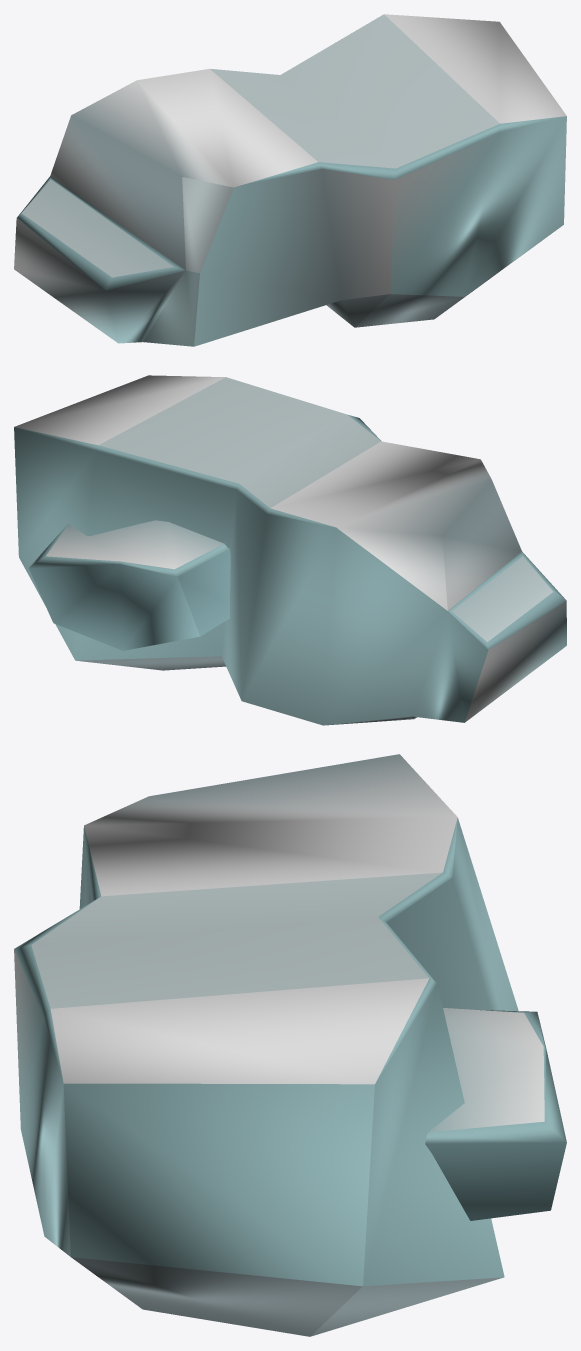
File: WaterRockB.glb
3 renders of one model, top to bottom at view 1: azimuth 30°, elevation 25°; view 2: azimuth 150°, elevation 25°; view 3: azimuth 270°, elevation 25°, orthographic. The views are drawn at different scales.
Parts seen in each view (by area): view 1: WaterRockB; view 2: WaterRockB; view 3: WaterRockB.
Boxes of the visible parts, left/top/right/bottom form: WaterRockB: left=14, top=14, right=566, bottom=346; WaterRockB: left=14, top=375, right=566, bottom=725; WaterRockB: left=14, top=754, right=566, bottom=1336.
Bounding box in the file's own units: 5.61 × 2.72 × 3.61.
